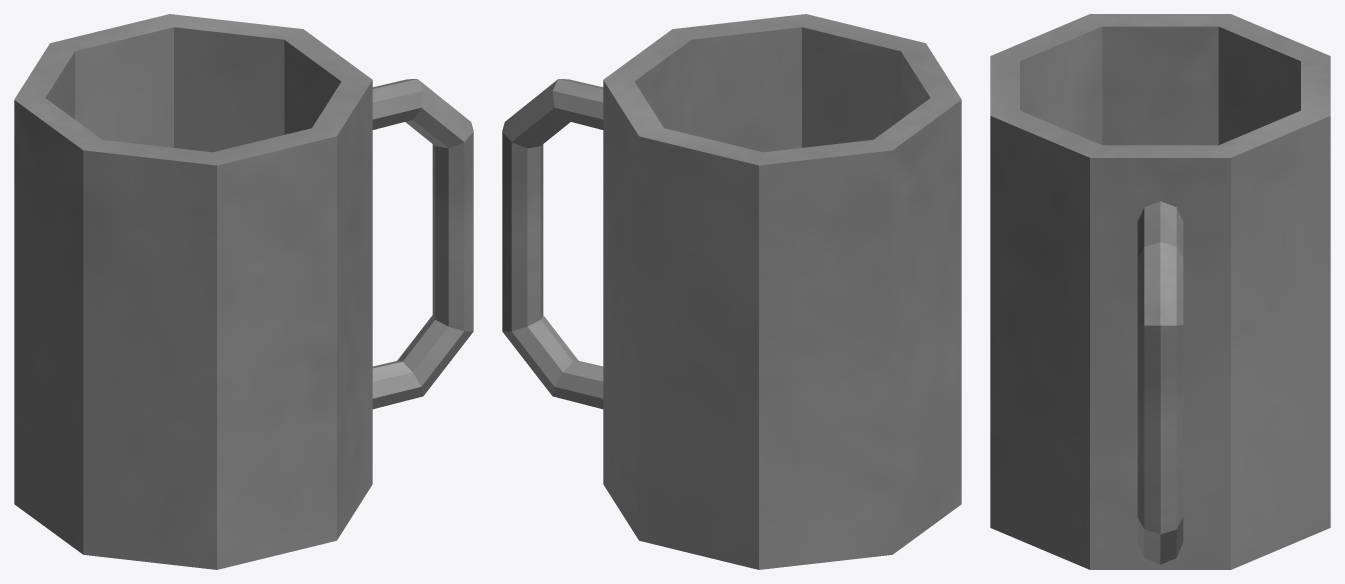
Rendered from Mug.fbx.
The picture shows the model from 3 angles, left to right: view 1: azimuth 30°, elevation 25°; view 2: azimuth 150°, elevation 25°; view 3: azimuth 270°, elevation 25°; orthographic projection.
Parts seen in each view (by area): view 1: Mug; view 2: Mug; view 3: Mug.
Part boxes in pixels (x1,y1,x2,y2): Mug: [14, 14, 473, 569]; Mug: [502, 14, 961, 569]; Mug: [990, 14, 1330, 569].
Bounding box in the file's own units: 76.9 × 70.36 × 52.68.
